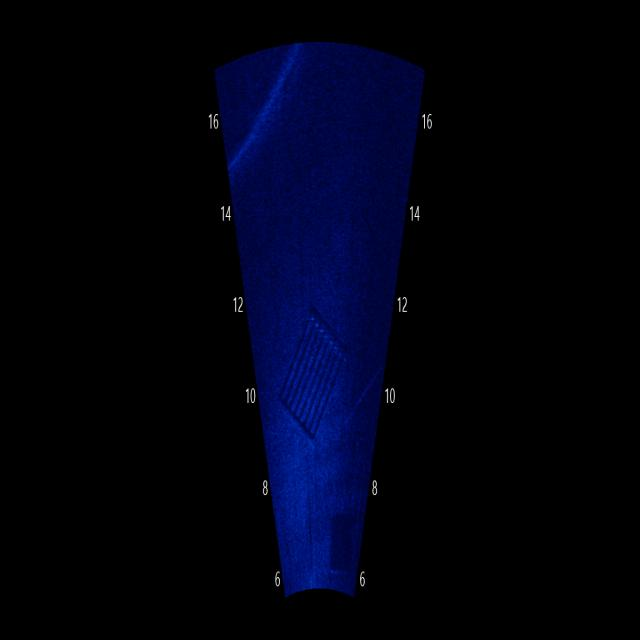square: (271, 304, 358, 451)
